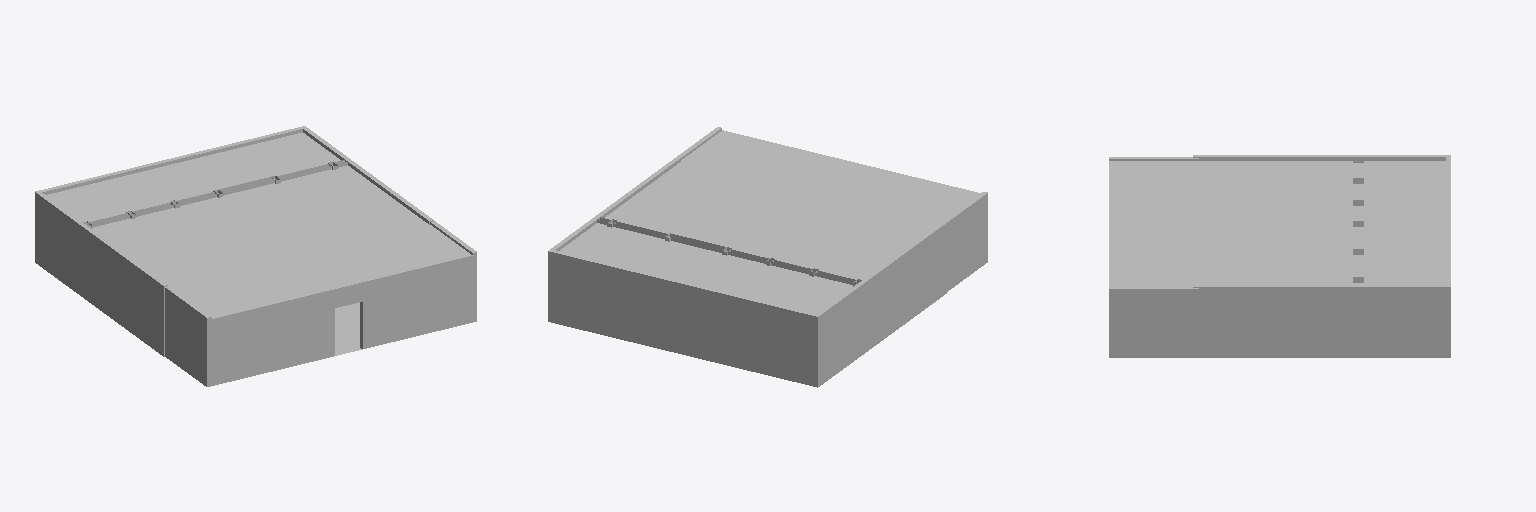
Rendered from LC_cont1_049.obj.
The picture shows the model from 3 angles: view 1: azimuth 30°, elevation 25°; view 2: azimuth 150°, elevation 25°; view 3: azimuth 270°, elevation 25°; orthographic projection.
Visible parts, largest first — view 1: grp3, grp2, grp5; view 2: grp3, grp2; view 3: grp3, grp2.
Part boxes in pixels (x1,y1,x2,y2): grp3: (46,132,472,318); grp2: (35,126,476,386); grp5: (335,302,362,355); grp3: (560,130,977,313); grp2: (548,127,987,387); grp3: (1109,161,1445,285); grp2: (1109,155,1450,357).
Bounding box in the file's own units: 1896 × 480 × 2072.